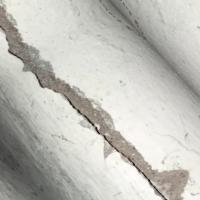crack: (0, 18, 167, 199)
